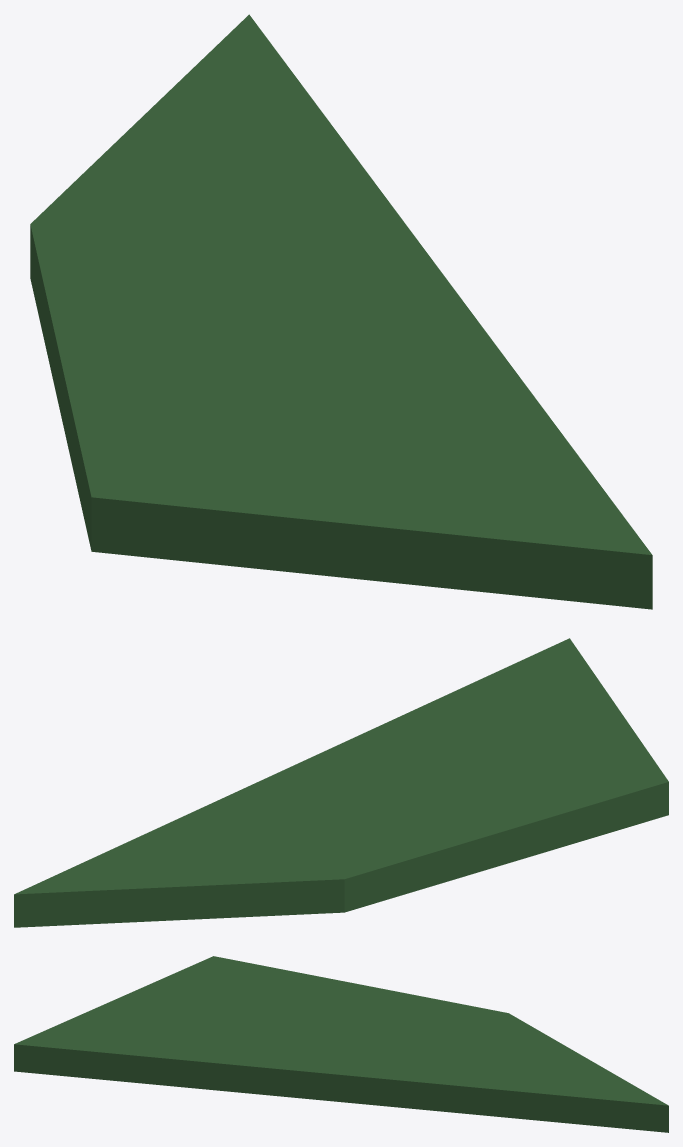
Rendered from x_proval_00_126_1_rmstrd.fbx.
3 views of the same model, one above another, from view 1: azimuth 30°, elevation 25°; view 2: azimuth 150°, elevation 25°; view 3: azimuth 270°, elevation 25° (orthographic). The views are drawn at different scales.
Parts seen in each view (by area): view 1: x_proval_00_126_1_rmstrd1; view 2: x_proval_00_126_1_rmstrd1; view 3: x_proval_00_126_1_rmstrd1.
Boxes of the visible parts, bbox=[...] form: x_proval_00_126_1_rmstrd1: bbox=[30, 14, 652, 609]; x_proval_00_126_1_rmstrd1: bbox=[14, 638, 668, 927]; x_proval_00_126_1_rmstrd1: bbox=[14, 956, 668, 1132].
Bounding box in the file's own units: 2.36 × 0.2 × 4.36.
